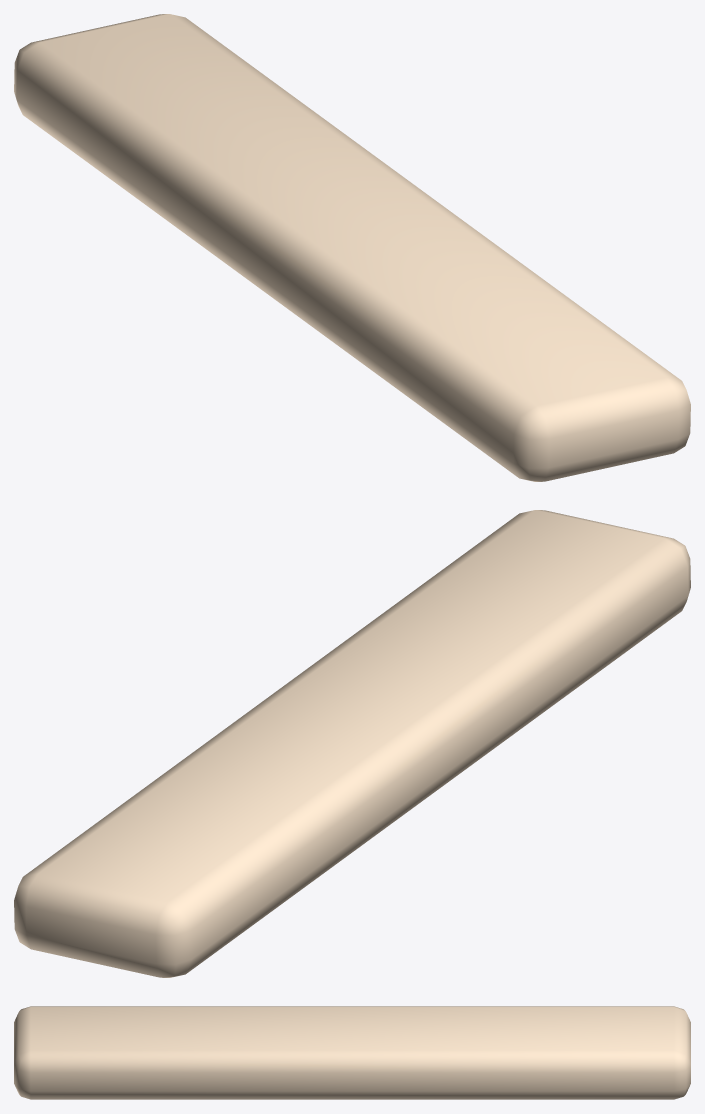
File: Bakery_Shelf_01.fbx
3 renders of one model, top to bottom at view 1: azimuth 30°, elevation 25°; view 2: azimuth 150°, elevation 25°; view 3: azimuth 270°, elevation 25°, orthographic. The views are drawn at different scales.
Parts seen in each view (by area): view 1: Bakery_Shelf_01; view 2: Bakery_Shelf_01; view 3: Bakery_Shelf_01.
Boxes of the visible parts, <box> form: Bakery_Shelf_01: <box>14,14,690,481</box>; Bakery_Shelf_01: <box>14,510,690,977</box>; Bakery_Shelf_01: <box>14,1006,690,1099</box>.
Bounding box in the file's own units: 50.63 × 21.78 × 262.
